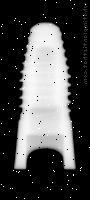Nobel Biocare: (14, 21, 76, 169)
